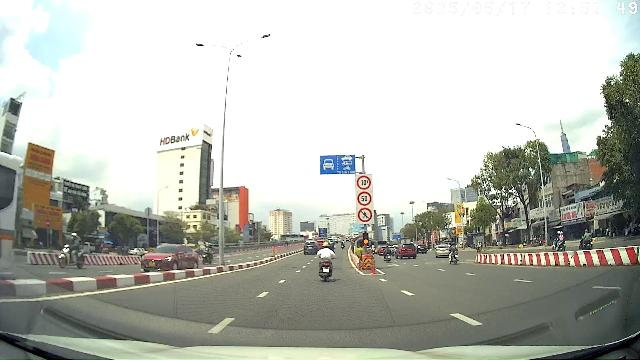127-toc-do-toi-da-50: (358, 190, 372, 206)
